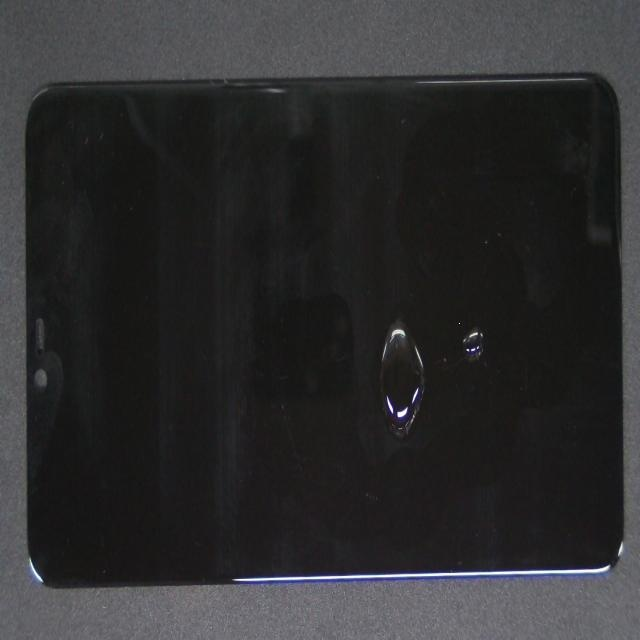oil: (175, 157, 575, 607), (223, 148, 640, 531)
